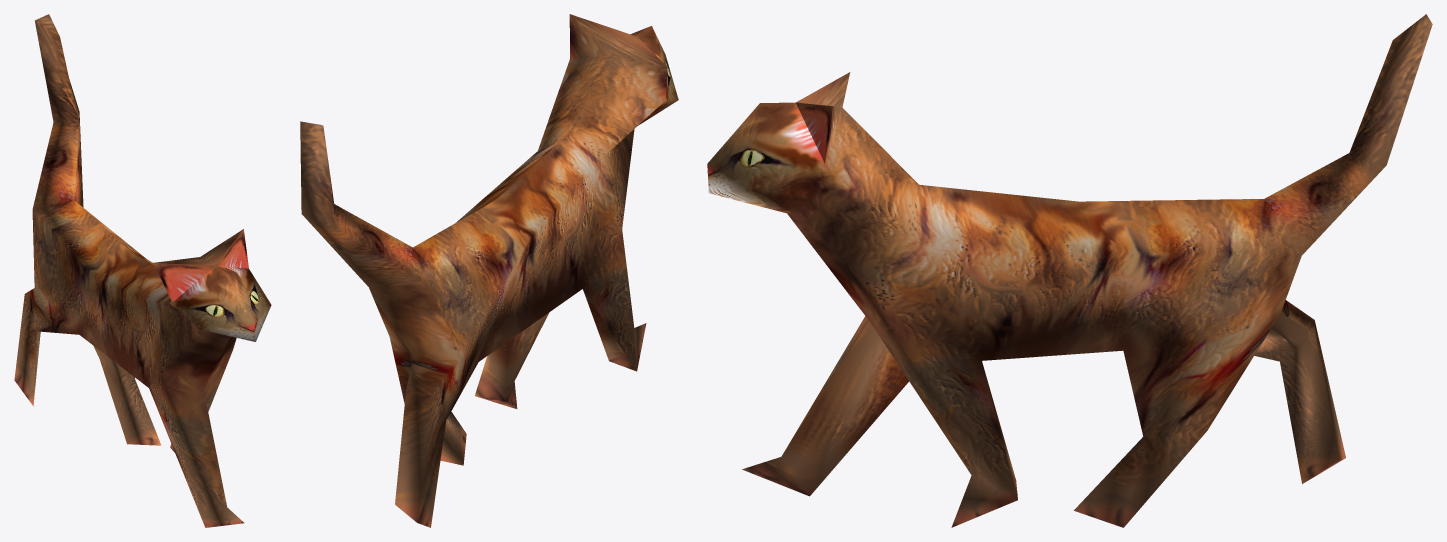
Rendered from CohortCatReference.glb.
The picture shows the model from 3 angles, left to right: view 1: azimuth 30°, elevation 25°; view 2: azimuth 150°, elevation 25°; view 3: azimuth 270°, elevation 25°; orthographic projection. The views are drawn at different scales.
Parts seen in each view (by area): view 1: Cube.001; view 2: Cube.001; view 3: Cube.001.
Part boxes in pixels (box(x1,y1,x2,y2)): Cube.001: box(14, 14, 271, 527); Cube.001: box(300, 14, 678, 527); Cube.001: box(707, 14, 1432, 527).
Size of the model in its own units: 0.2143 by 0.65 by 0.8373.
Materials: 1 (1 with a texture image).
